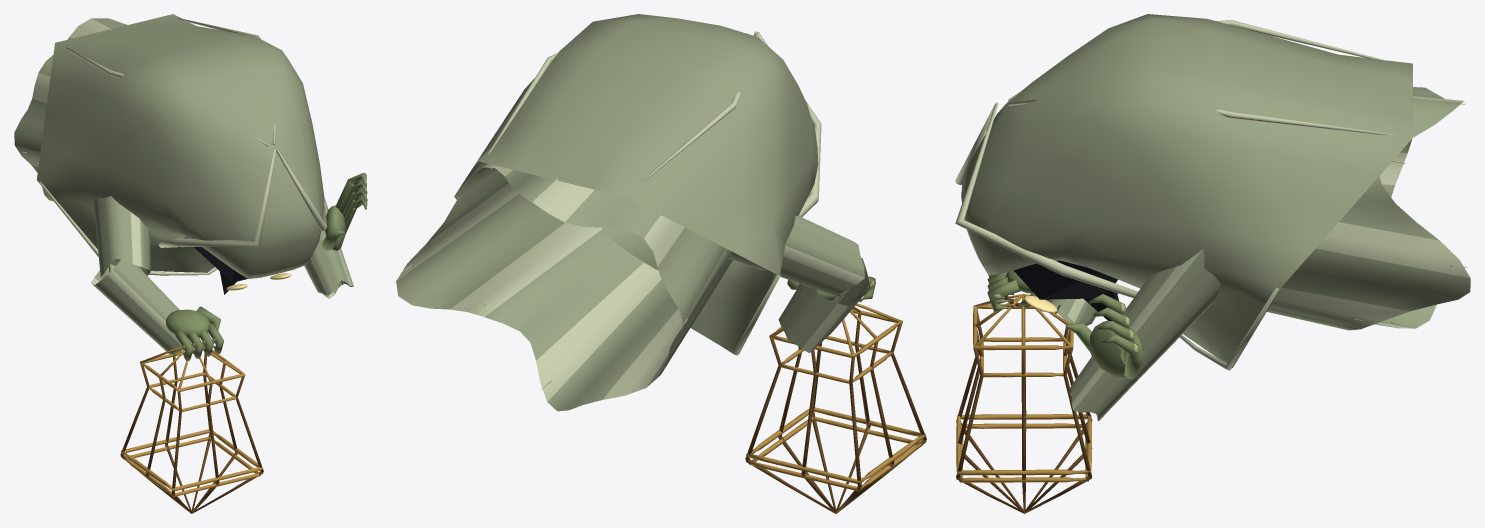
File: poe.glb
3 renders of one model, left to right at view 1: azimuth 30°, elevation 25°; view 2: azimuth 150°, elevation 25°; view 3: azimuth 270°, elevation 25°, orthographic. The views are drawn at different scales.
Parts seen in each view (by area): view 1: Poe.0.05.folded draped hood, Poe.0.19.raised left cuff, Poe.0.20.left upper sleeve, Poe.0.04.hanging folded shroud, Poe.0.10.outstretched right sleeve, Poe.0.18.forged square lantern rim.002, Poe.0.05.folded hood opening, Poe.0.18.forged square lantern rim.003, Poe.0.16.lantern gripping palm, Poe.0.11.inset pointed face, Poe.0.18.forged square lantern rim, Poe.0.18.forged square lantern rim.001 (+4 smaller); view 2: Poe.0.05.folded draped hood, Poe.0.04.hanging folded shroud, Poe.0.20.left upper sleeve, Poe.0.19.raised left cuff, Poe.0.18.forged square lantern rim.002, Poe.0.18.forged square lantern rim.003, Poe.0.18.forged square lantern rim.001, Poe.0.18.forged square lantern rim, Poe.0.05.folded hood opening, Poe.0.05.back falling fold; view 3: Poe.0.05.folded draped hood, Poe.0.04.hanging folded shroud, Poe.0.10.outstretched right sleeve, Poe.0.05.folded hood opening.001, Poe.0.11.inset pointed face, Poe.0.18.forged square lantern rim.002, Poe.0.18.forged square lantern rim.003, Poe.0.09.open palm, Poe.0.05.back falling fold.001, Poe.0.19.raised left cuff, Poe.0.18.forged square lantern rim.001, Poe.0.18.forged square lantern rim (+3 smaller).
Part boxes in pixels (x1,y1,x2,y2): Poe.0.05.folded draped hood: (37, 14, 324, 278); Poe.0.19.raised left cuff: (90, 258, 191, 357); Poe.0.20.left upper sleeve: (93, 196, 150, 278); Poe.0.04.hanging folded shroud: (14, 18, 127, 201); Poe.0.10.outstretched right sleeve: (304, 197, 353, 298); Poe.0.18.forged square lantern rim.002: (121, 429, 263, 490); Poe.0.05.folded hood opening: (159, 149, 276, 247); Poe.0.18.forged square lantern rim.003: (123, 436, 260, 496); Poe.0.16.lantern gripping palm: (166, 309, 209, 338); Poe.0.11.inset pointed face: (184, 237, 247, 294); Poe.0.18.forged square lantern rim: (139, 348, 245, 391); Poe.0.18.forged square lantern rim.001: (148, 372, 237, 411); Poe.0.05.folded draped hood: (454, 14, 818, 354); Poe.0.04.hanging folded shroud: (396, 163, 733, 411); Poe.0.20.left upper sleeve: (727, 216, 864, 296); Poe.0.19.raised left cuff: (778, 258, 870, 352); Poe.0.18.forged square lantern rim.002: (746, 407, 926, 483); Poe.0.18.forged square lantern rim.003: (749, 416, 922, 491); Poe.0.18.forged square lantern rim.001: (780, 336, 892, 383); Poe.0.18.forged square lantern rim: (769, 309, 902, 358); Poe.0.05.folded hood opening: (756, 32, 821, 217); Poe.0.05.back falling fold: (638, 35, 755, 183); Poe.0.05.folded draped hood: (961, 14, 1412, 367); Poe.0.04.hanging folded shroud: (1267, 87, 1470, 330); Poe.0.10.outstretched right sleeve: (1069, 249, 1220, 421); Poe.0.05.folded hood opening.001: (955, 104, 1137, 297); Poe.0.11.inset pointed face: (1013, 260, 1118, 320); Poe.0.18.forged square lantern rim.002: (956, 414, 1091, 475); Poe.0.18.forged square lantern rim.003: (959, 423, 1088, 482); Poe.0.09.open palm: (1089, 321, 1143, 376); Poe.0.05.back falling fold.001: (1008, 99, 1396, 134); Poe.0.19.raised left cuff: (1040, 298, 1097, 333); Poe.0.18.forged square lantern rim.001: (980, 337, 1066, 377); Poe.0.18.forged square lantern rim: (973, 304, 1073, 350).
Size of the model in its own units: 48.62 by 68.33 by 61.89.
